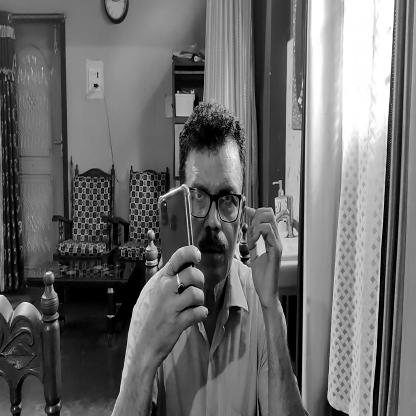Normal: (184, 113, 244, 292)
